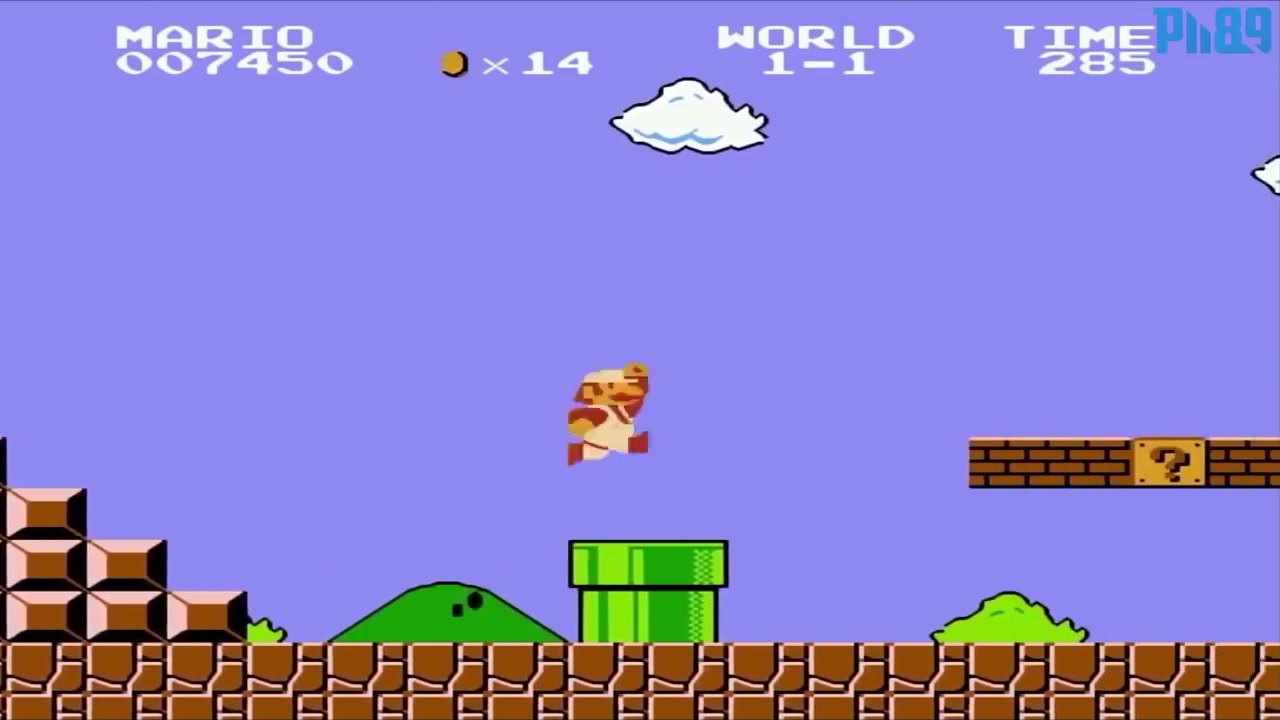mario: (568, 356, 669, 477)
